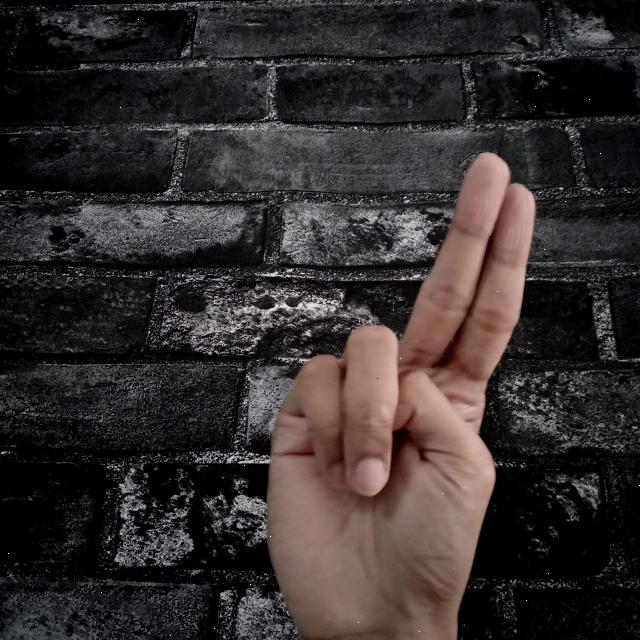U: (257, 147, 539, 640)
